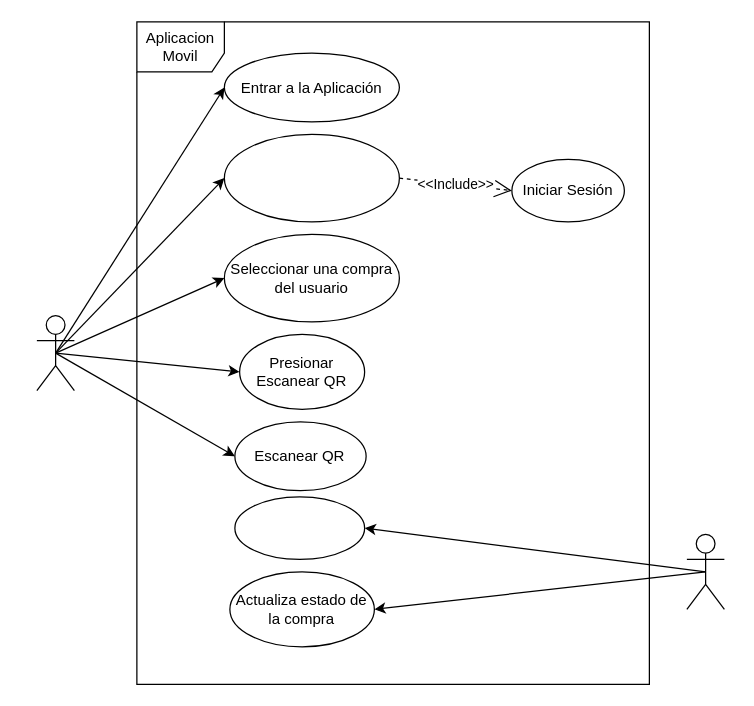
Image size: 754x706. Some labels were removed from this diagram. Here are the shapes that lost their labels. From the top down, the box of each, then its label:
(223, 133, 399, 222): Entrar al apartado de compras del usuario
(36, 314, 74, 391): Empleado
(234, 496, 365, 559): Validar Compra
(686, 533, 724, 609): Sistema
